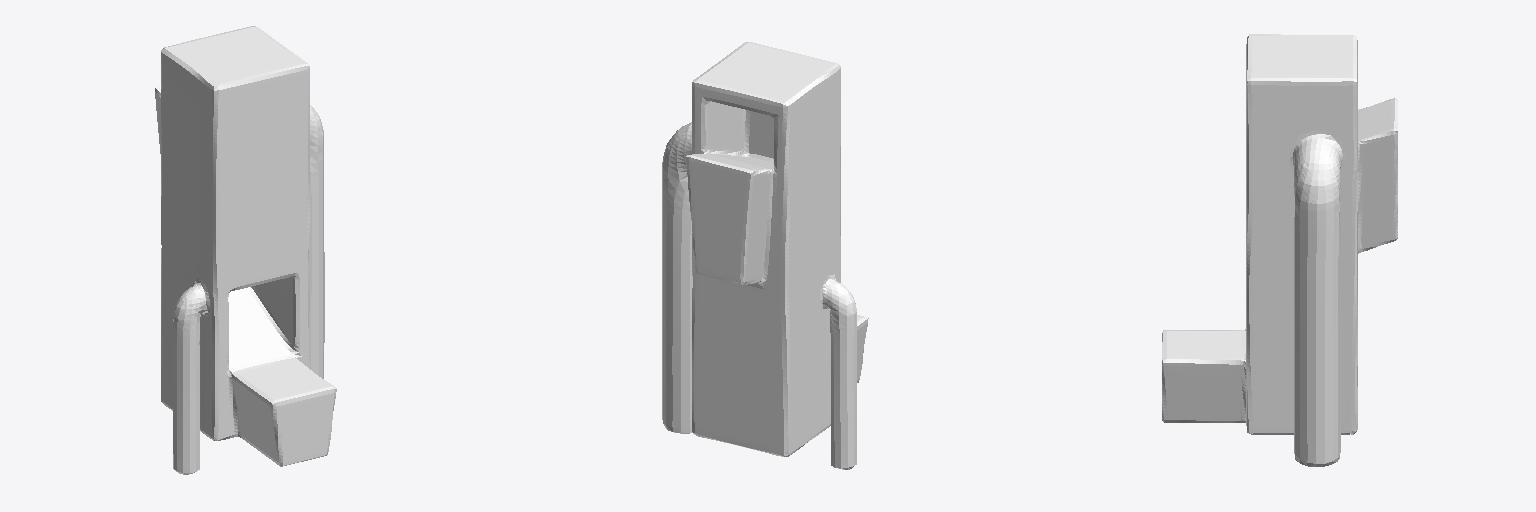
File: exit_chute_2_Albedo.Obj
3 views of the same model, side by side, from view 1: azimuth 30°, elevation 25°; view 2: azimuth 150°, elevation 25°; view 3: azimuth 270°, elevation 25° (orthographic).
Visible parts, largest first — view 1: exit_chute; view 2: exit_chute; view 3: exit_chute.
Part boxes in pixels (x1,y1,x2,y2): exit_chute: (155,26,336,474); exit_chute: (662,42,868,469); exit_chute: (1162,34,1397,466).
Size of the model in its own units: 122 by 270 by 149.